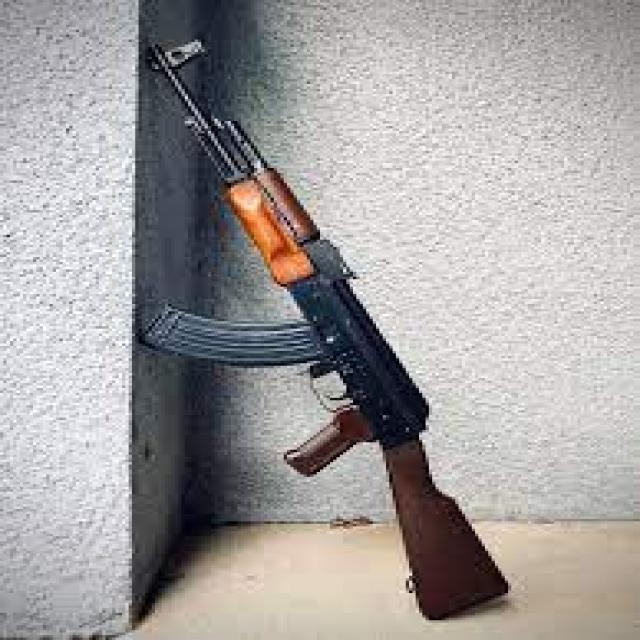weapon: (139, 42, 513, 622)
